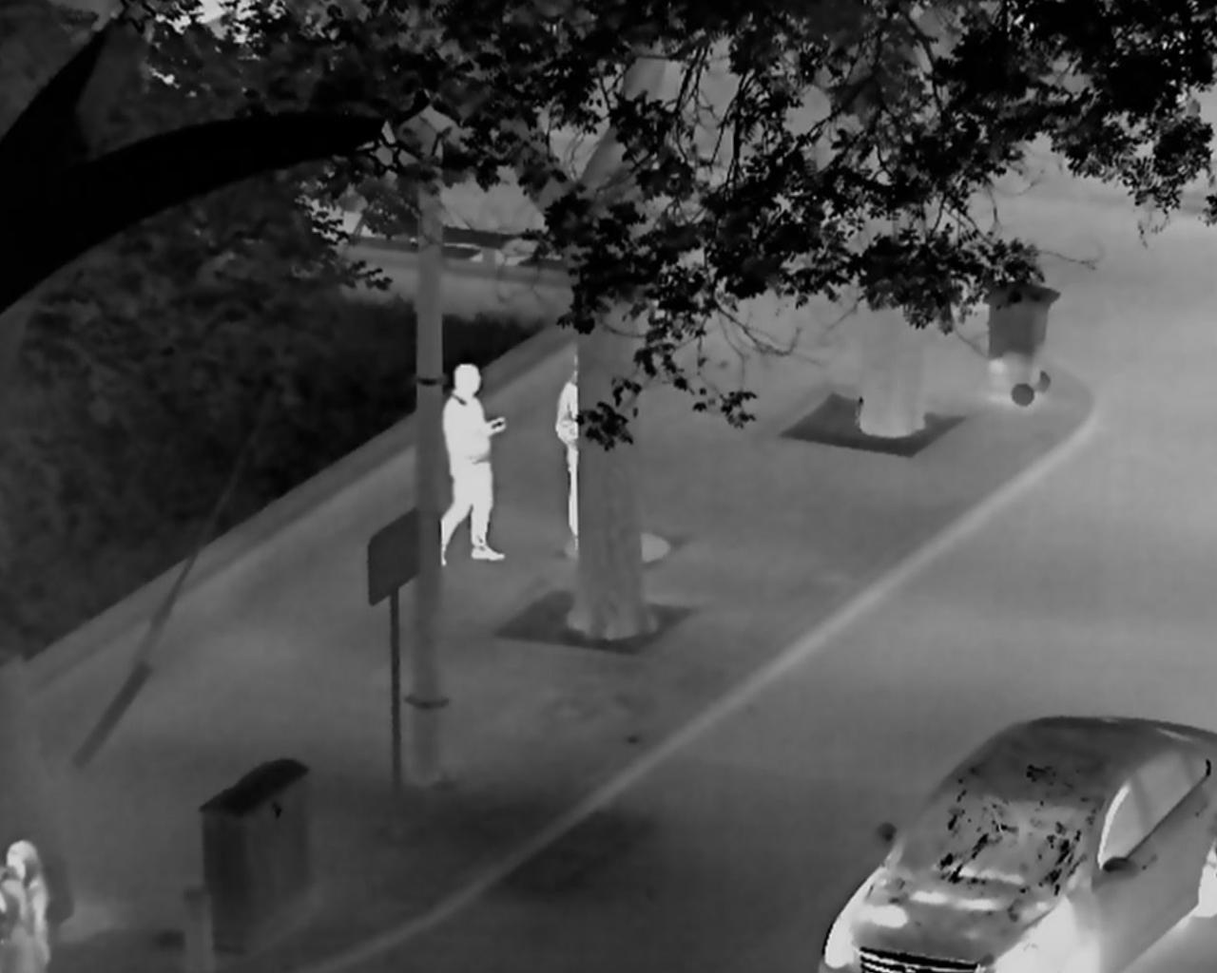person: (440, 362, 509, 566), (16, 840, 55, 973), (555, 355, 579, 550)
